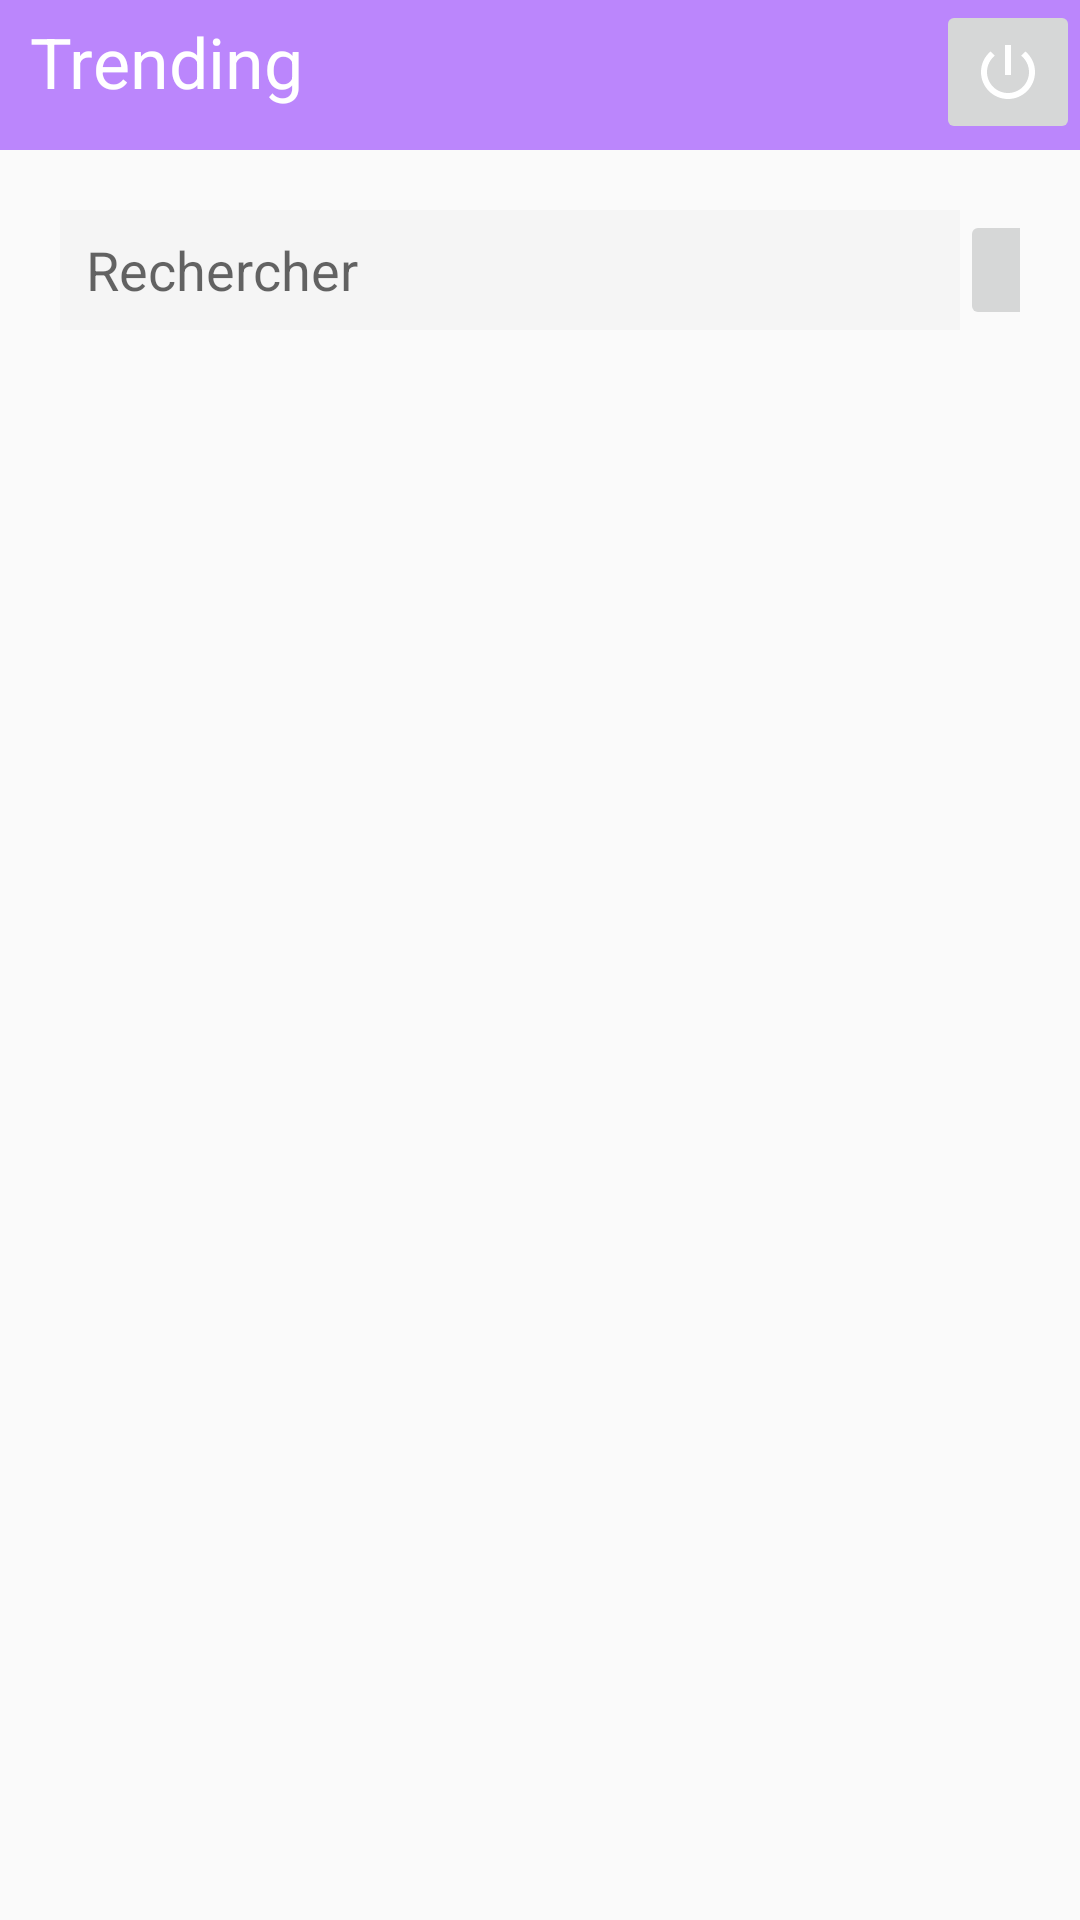

Point at icon controls on the screen. Image size 1080px×1920px, points as point (x, y).
power: point (1008, 72)
